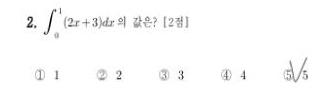choice: (281, 62, 300, 84)
not-choice: (32, 67, 47, 82), (219, 67, 233, 83), (94, 66, 108, 81), (157, 67, 171, 82)
